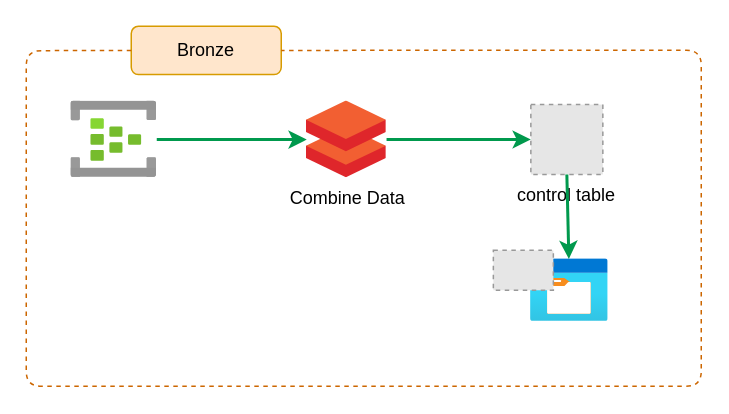
The diagram is 729 pixels wide and 414 high, and some of its shapes have lost their labels. Grey dashed boxes stand in for pictures. The shapes that lost their labels are listed below. From the top down, each one's centre as x and y in pixels, then its label:
At [113,138]: "Azure Event Hub".
At [569,289]: "Bronze Container".
